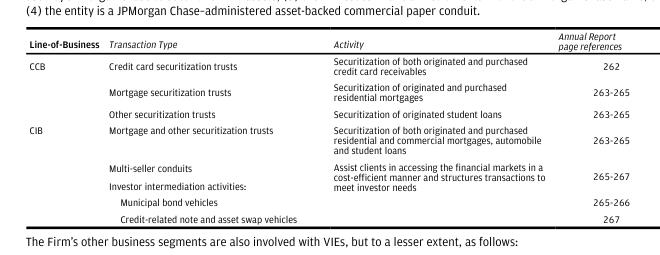table: (28, 28, 629, 224)
table column: (314, 28, 551, 224), (103, 28, 314, 224), (551, 28, 629, 224), (28, 28, 103, 224)
table column header: (28, 28, 629, 52)
table row: (28, 121, 629, 158), (28, 158, 629, 194), (28, 52, 629, 78), (28, 78, 629, 104), (28, 28, 629, 52), (28, 104, 629, 121), (28, 194, 629, 209), (28, 209, 629, 224)
table spanning cell: (28, 121, 103, 224), (28, 52, 103, 121)
